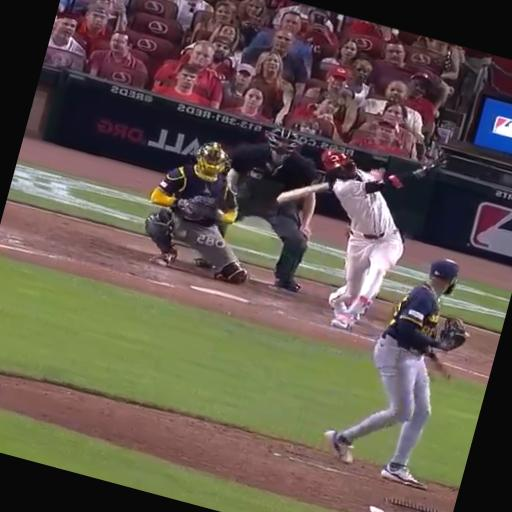bat: (275, 181, 332, 205)
